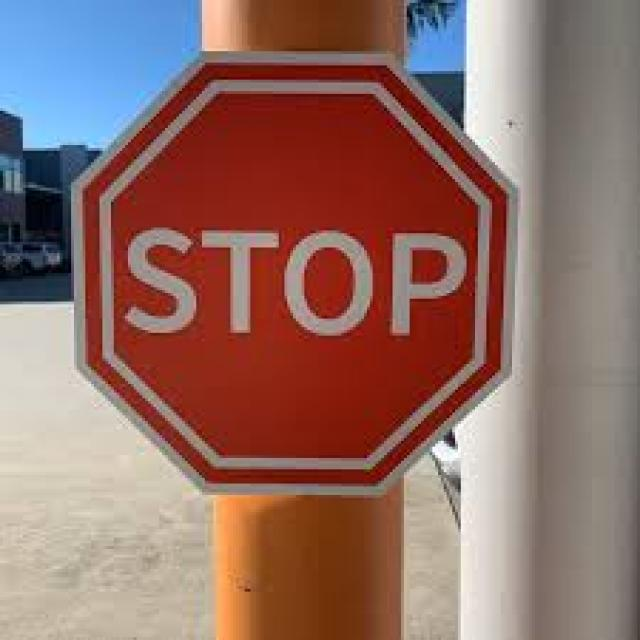stop-sign: (67, 92, 498, 457)
